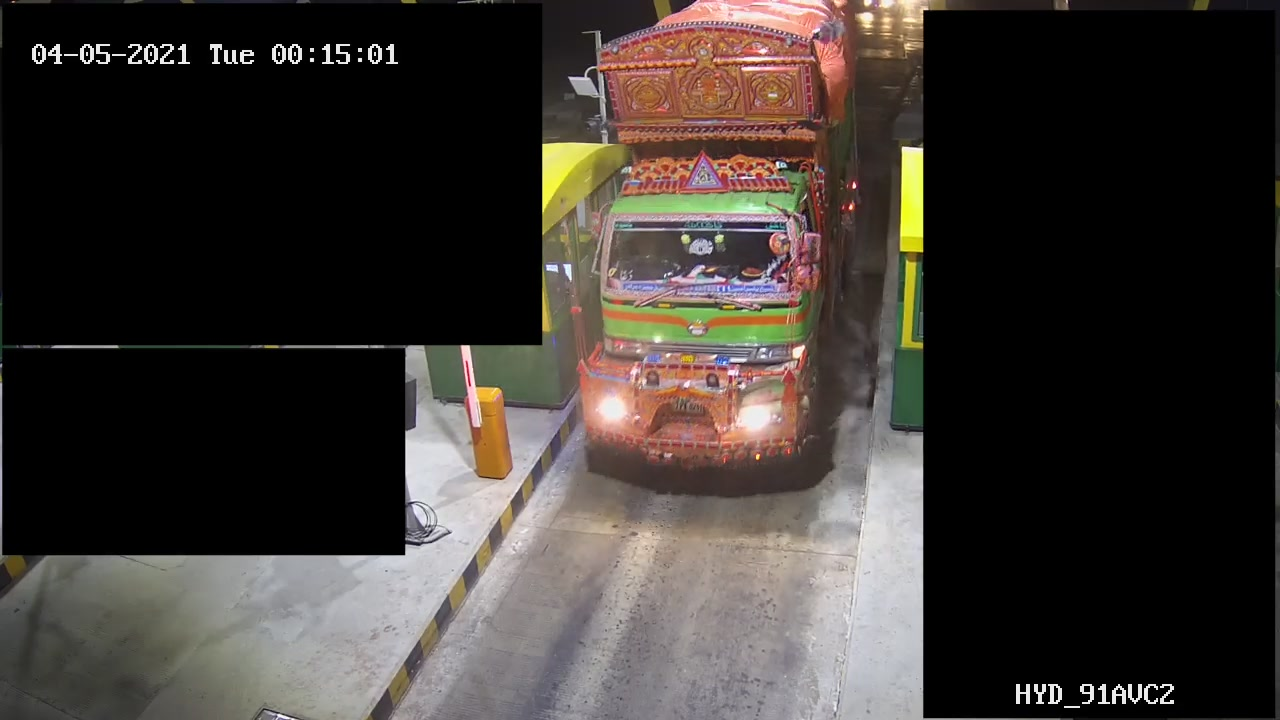F5: (581, 1, 877, 477)
